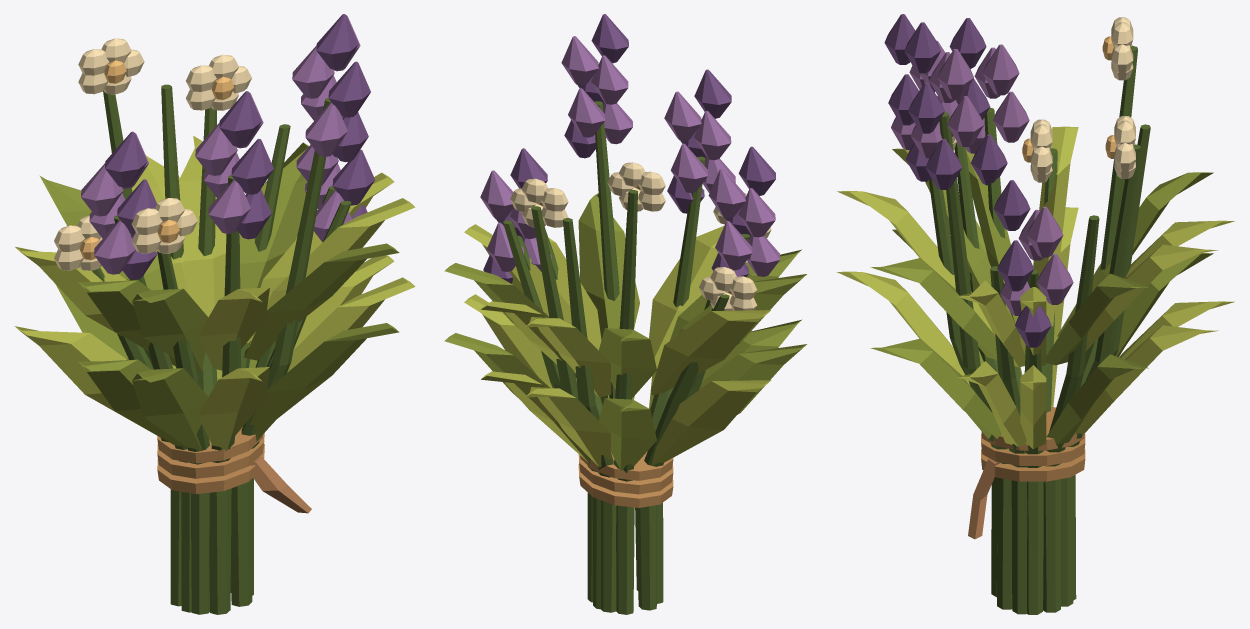
The model's file is HerbalBundle.obj.
3 renders of one model, left to right at view 1: azimuth 30°, elevation 25°; view 2: azimuth 150°, elevation 25°; view 3: azimuth 270°, elevation 25°, orthographic. The views are drawn at different scales.
Visible parts, largest first — view 1: Body; view 2: Body; view 3: Body.
Part boxes in pixels (x1,y1,x2,y2): Body: (14, 14, 415, 614); Body: (444, 14, 806, 614); Body: (837, 14, 1234, 614).
Size of the model in its own units: 0.6989 by 1.14 by 0.6723.
1 material, 1 textured.
